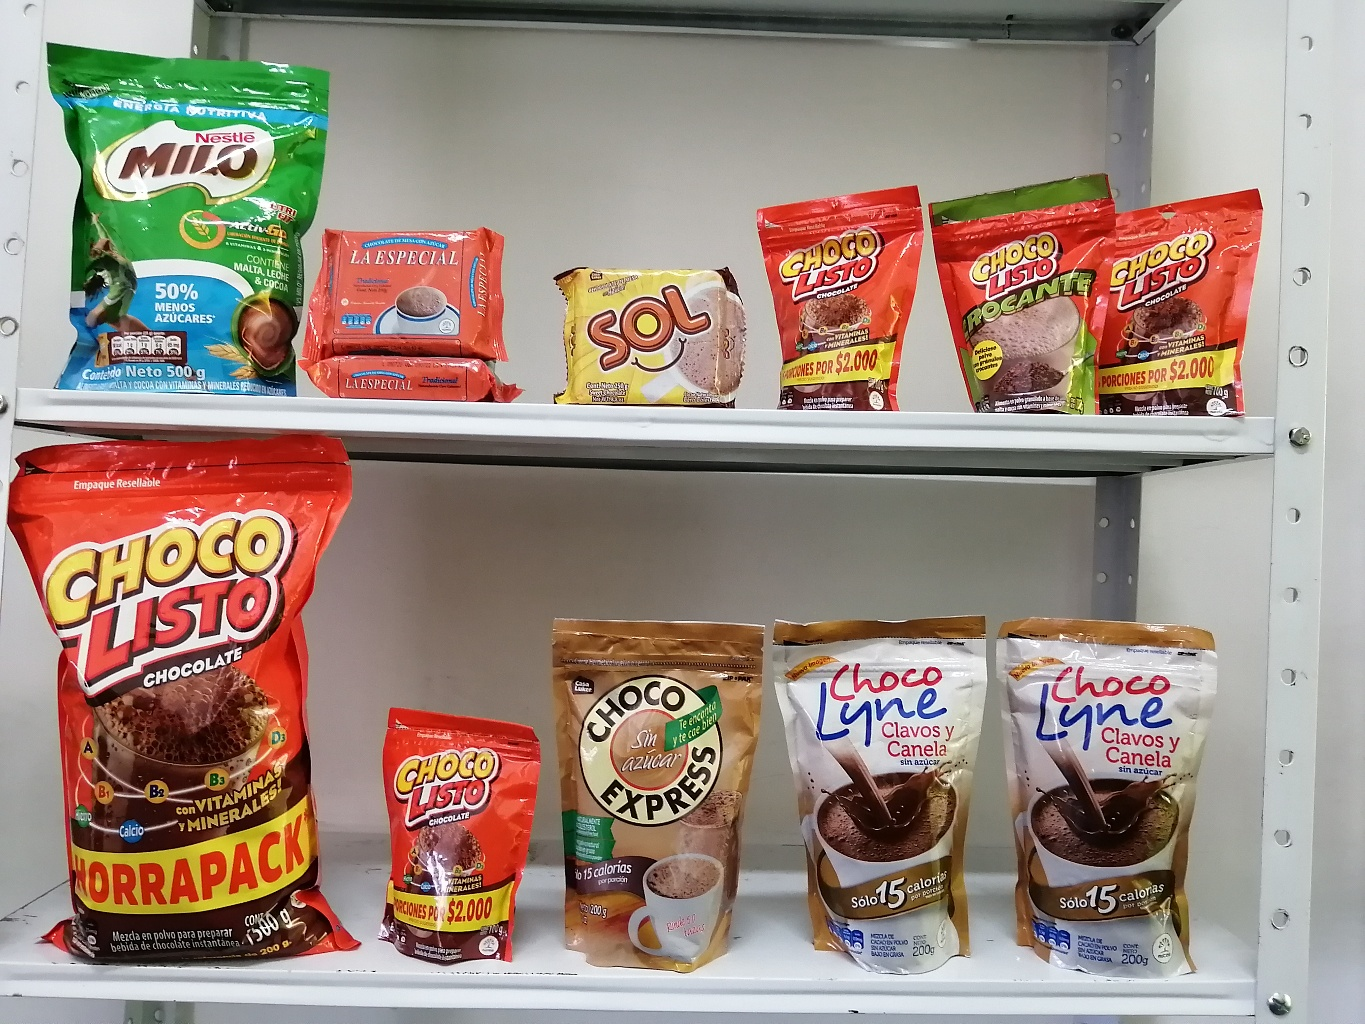COL0170102DYP10000: (922, 177, 1120, 416)
COL0170103DYP1,500: (8, 437, 366, 971)
COL0170103DYP10000: (752, 189, 923, 413)
COL0170205DYP50000: (45, 42, 328, 398)
